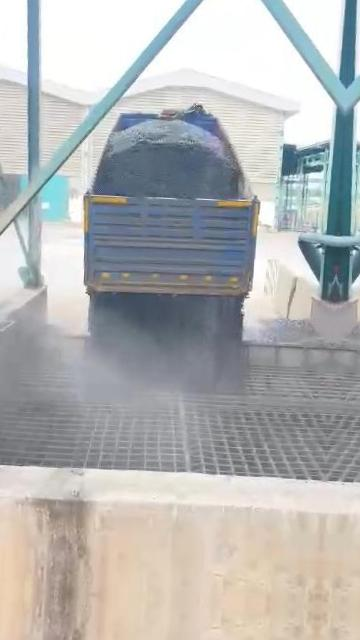gravel: (89, 294, 243, 384), (93, 118, 251, 198), (266, 319, 308, 338)
